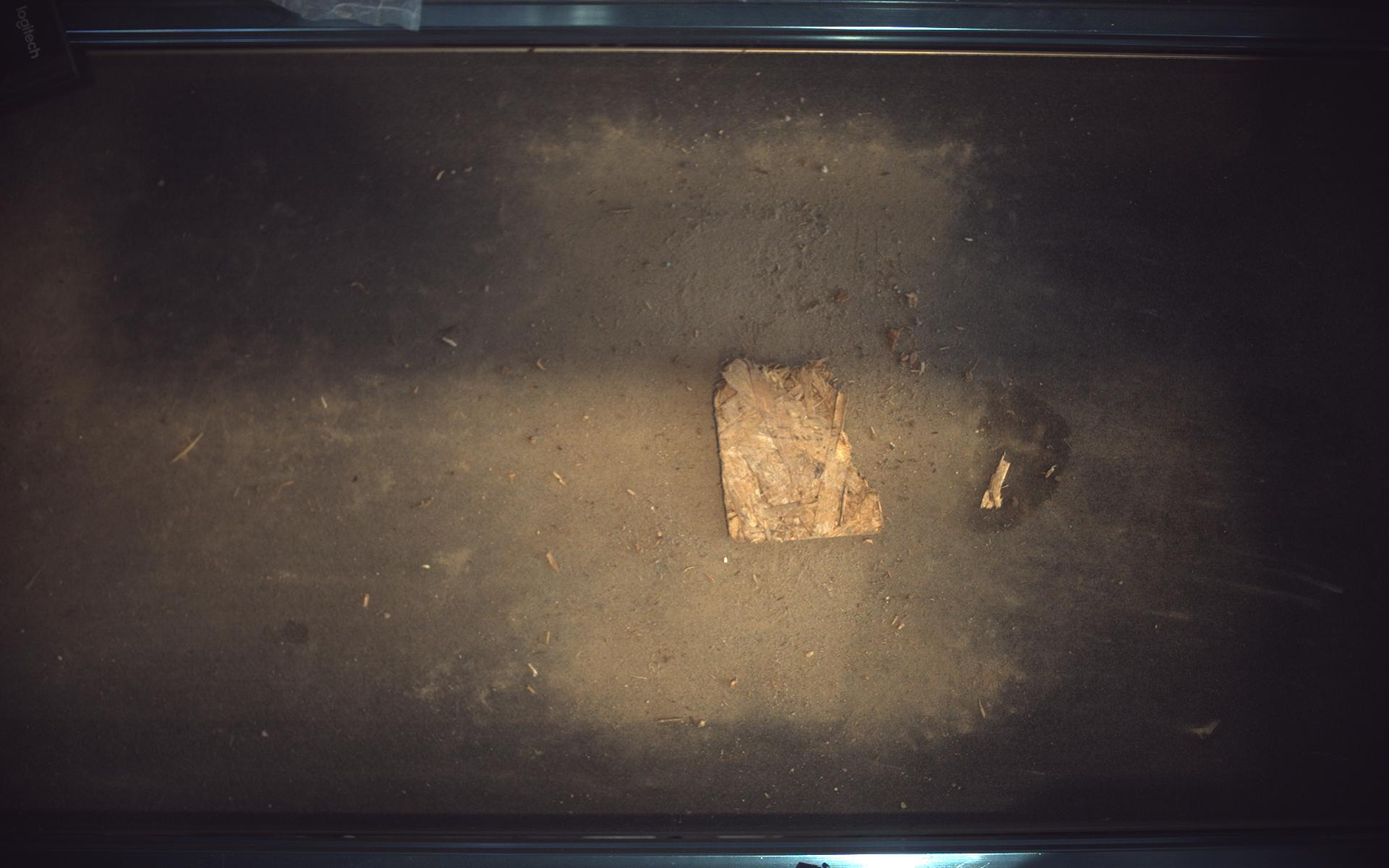wood: (715, 358, 885, 542)
